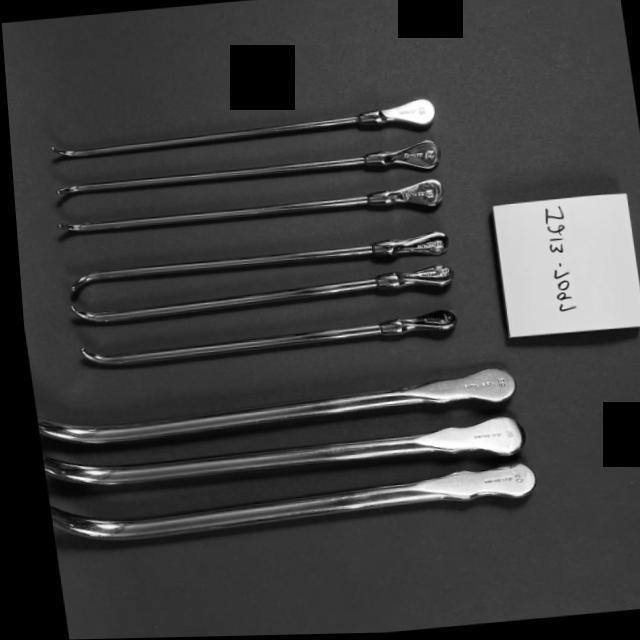Urethral Dilators: (39, 458, 536, 558), (32, 408, 524, 504), (26, 360, 522, 450), (42, 88, 440, 172), (64, 303, 468, 374), (48, 227, 451, 294), (42, 182, 446, 247), (53, 261, 455, 324), (51, 146, 444, 202)
